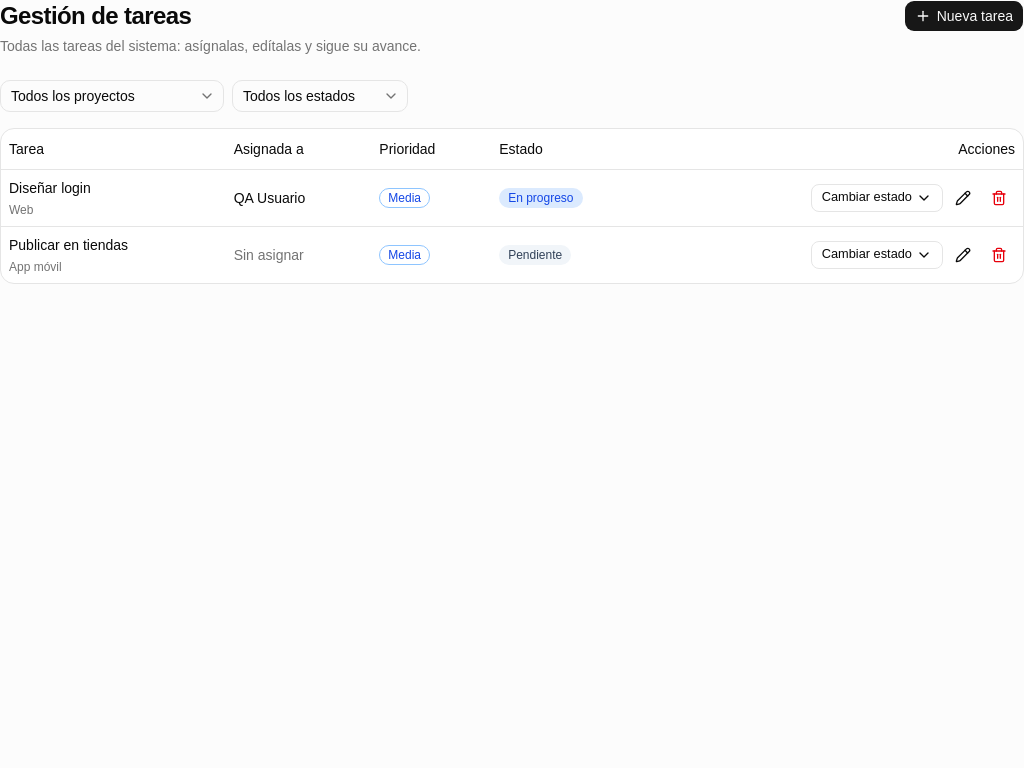
Scenario: GestionTareasPage › edita una tarea: el formulario viene con sus datos y el proyecto no se puede cambiar
Expected: the text "Diseñar login" is shown, [9, 180, 91, 196]
Click the button named "Editar" in the row of "Diseñar login": (963, 198) [947, 182, 979, 214]
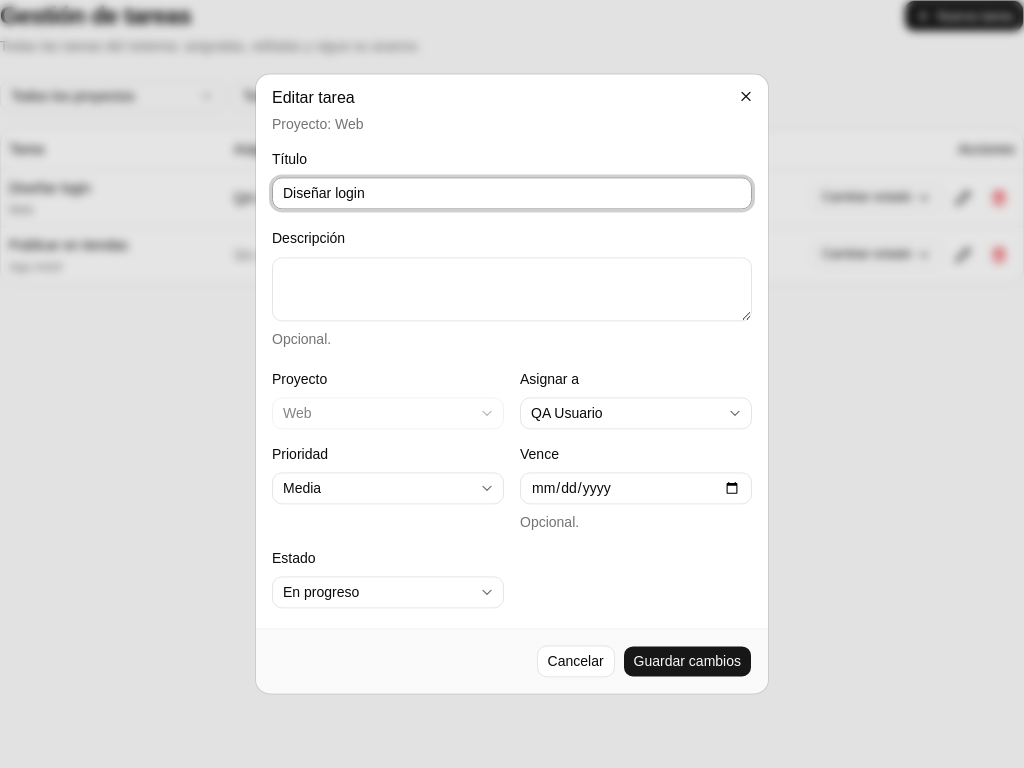
Expected: the field labelled "Título" holds "Diseñar login"
Expected: the dropdown named "Proyecto" is disabled, [272, 397, 504, 429]
Replace the text in the field labelled "Título" with "Diseñar login v2": (512, 194) [272, 178, 752, 210]
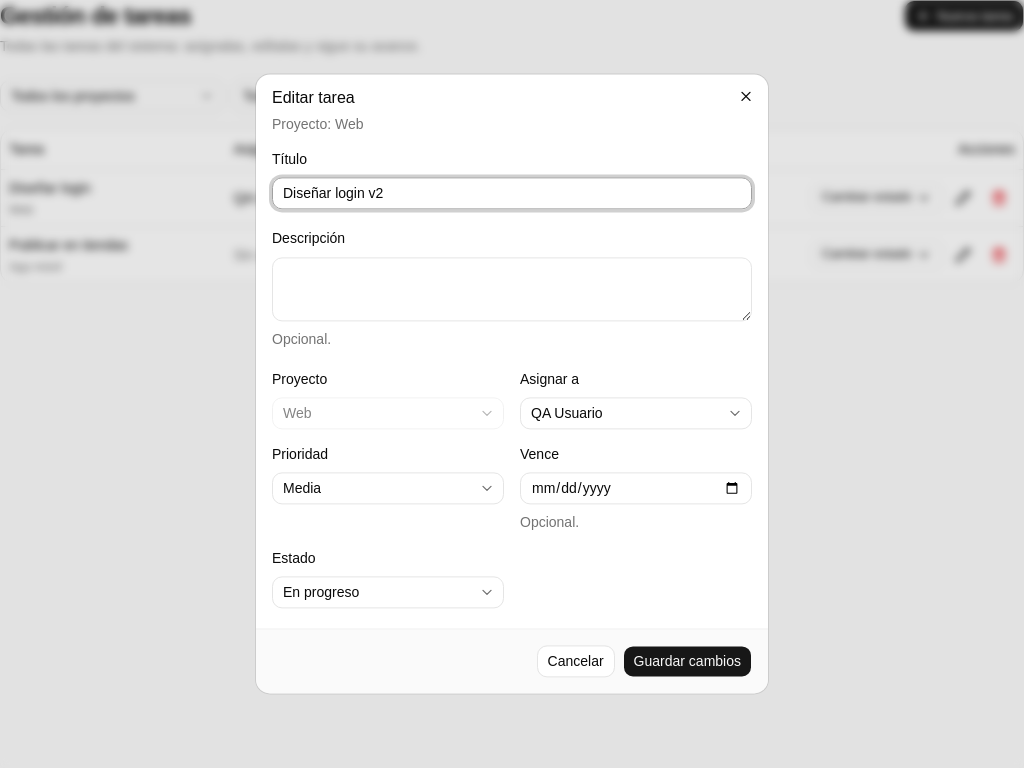
Click the dropdown named "Estado": (388, 593) [272, 577, 504, 609]
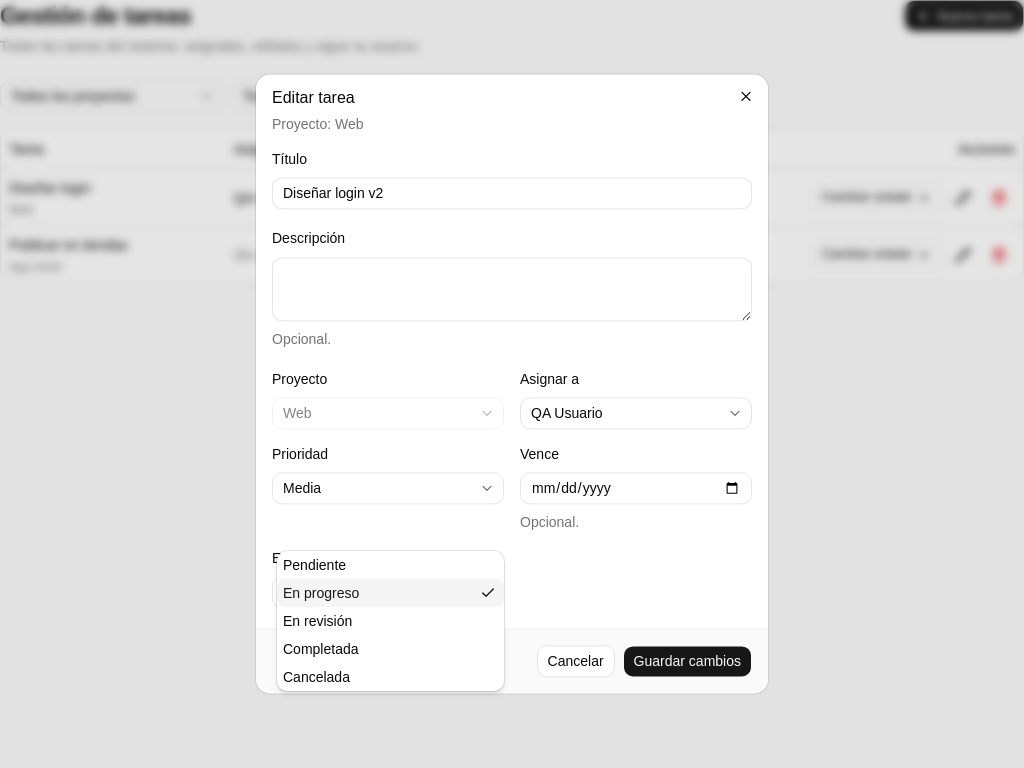
Click the option "En revisión": (318, 621) [283, 613, 352, 629]
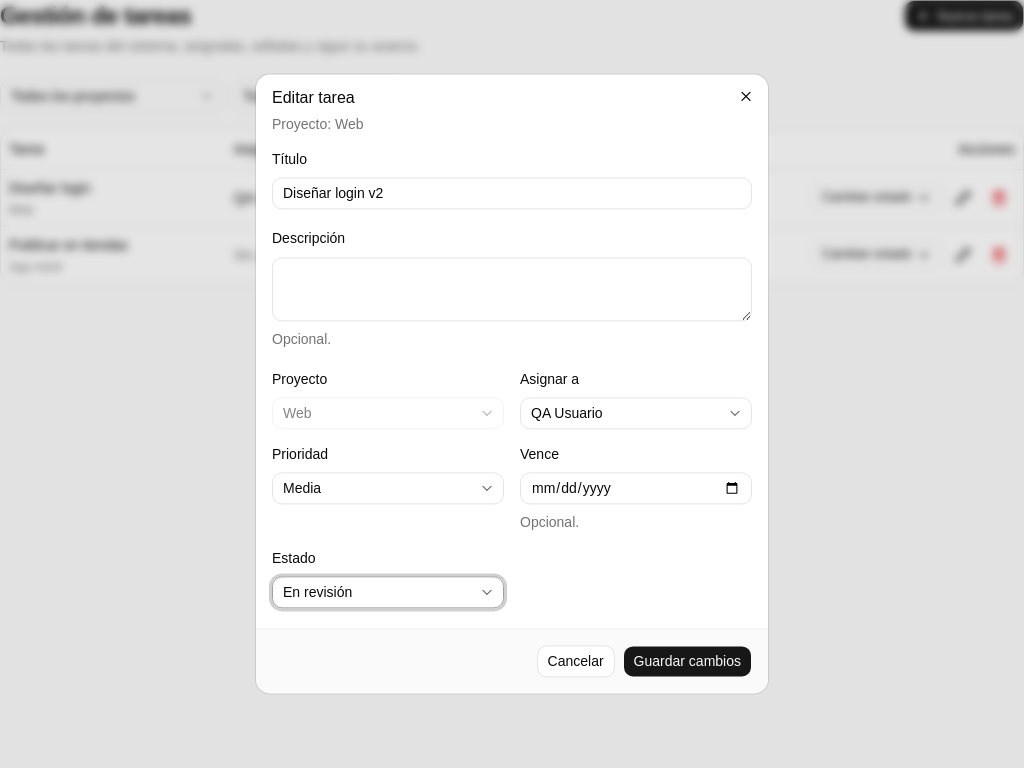
Click the button "Guardar cambios": (687, 662) [623, 646, 752, 678]
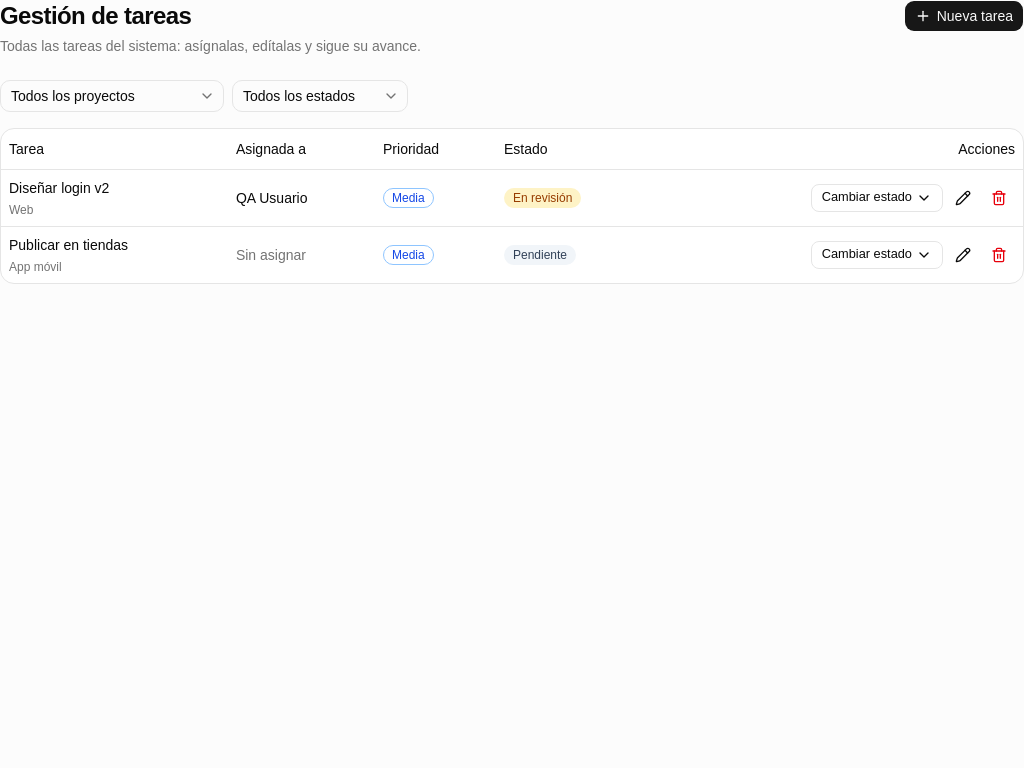
Expected: the text "Diseñar login v2" is shown, [9, 180, 109, 196]
